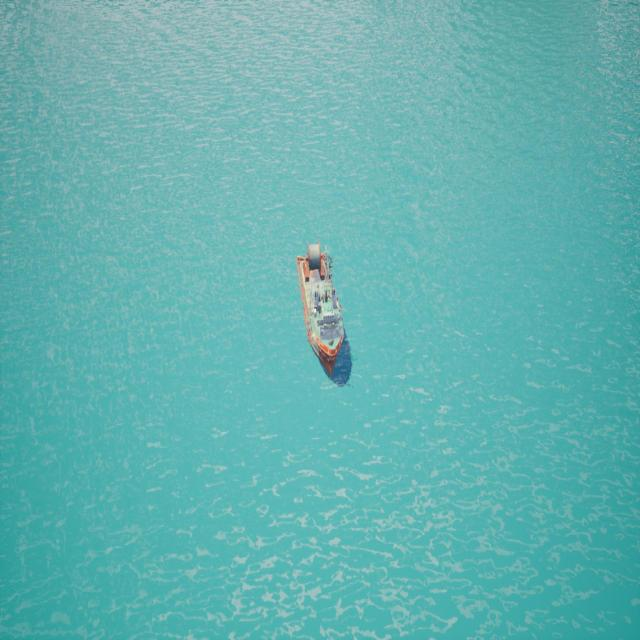tug boat: (282, 215, 371, 387)
